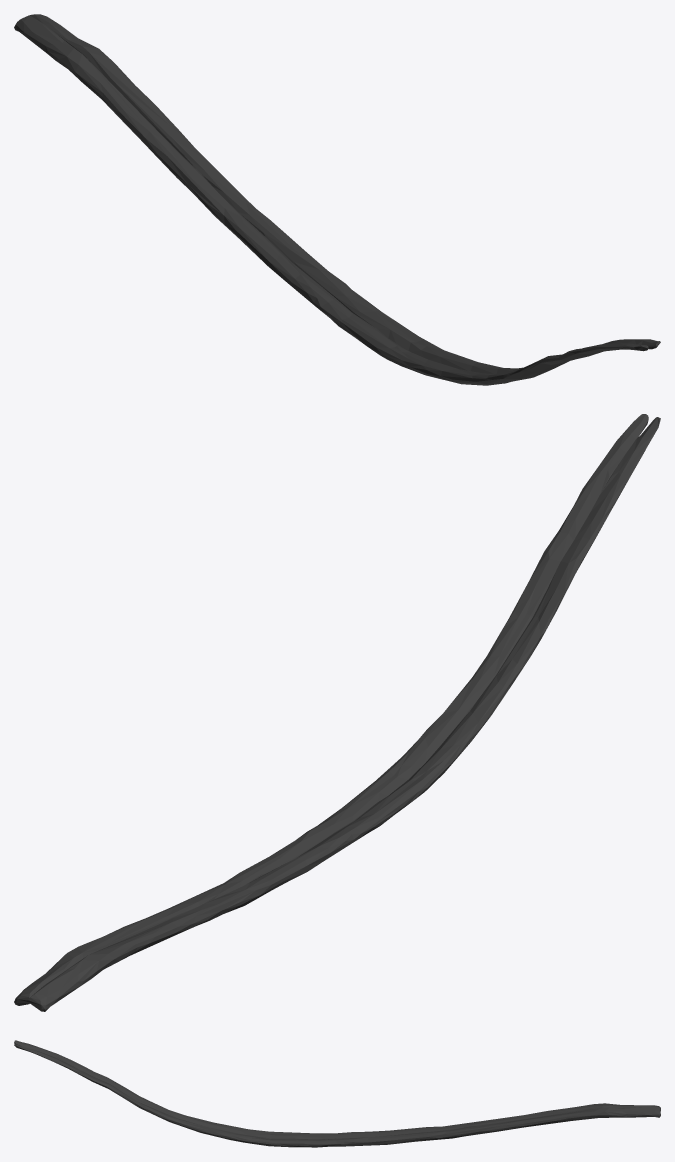
Rendered from lig_supraspinous.glb.
The picture shows the model from 3 angles, top to bottom: view 1: azimuth 30°, elevation 25°; view 2: azimuth 150°, elevation 25°; view 3: azimuth 270°, elevation 25°; orthographic projection. The views are drawn at different scales.
Visible parts, largest first — view 1: lig_supraspinous; view 2: lig_supraspinous; view 3: lig_supraspinous.
Boxes of the visible parts, box(x1,y1,x2,y2) form: lig_supraspinous: box(14, 14, 660, 385); lig_supraspinous: box(14, 414, 660, 1011); lig_supraspinous: box(14, 1040, 660, 1147).
Size of the model in its own units: 0.00057 by 0.00233 by 0.0134.
Materials: 1 (1 with a texture image).
